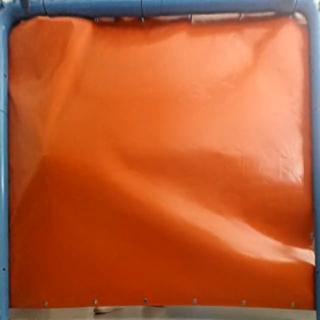Hit-hRxx: (34, 151, 49, 164)
